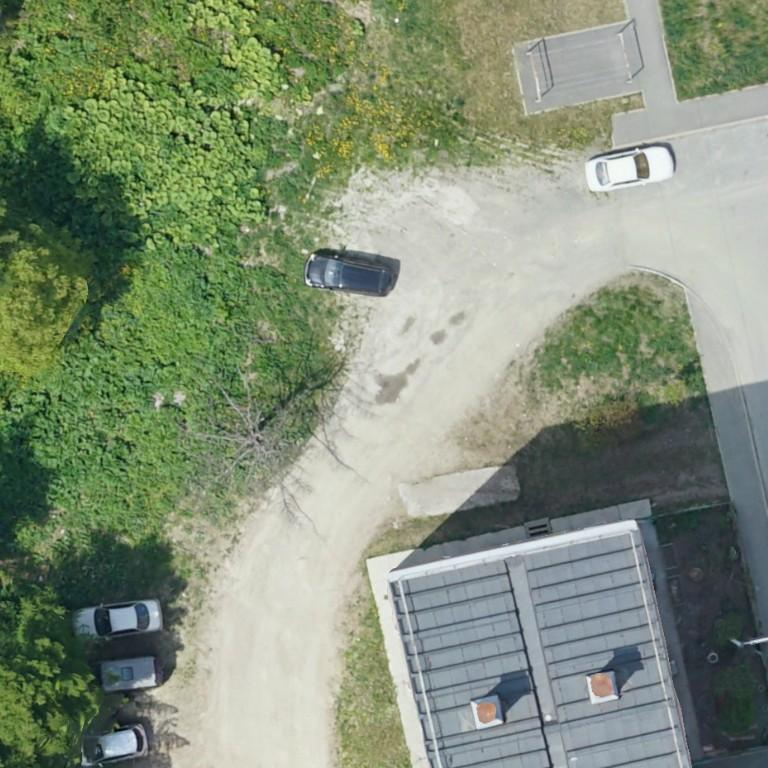hogweed: (0, 248, 247, 550), (248, 267, 282, 288)
